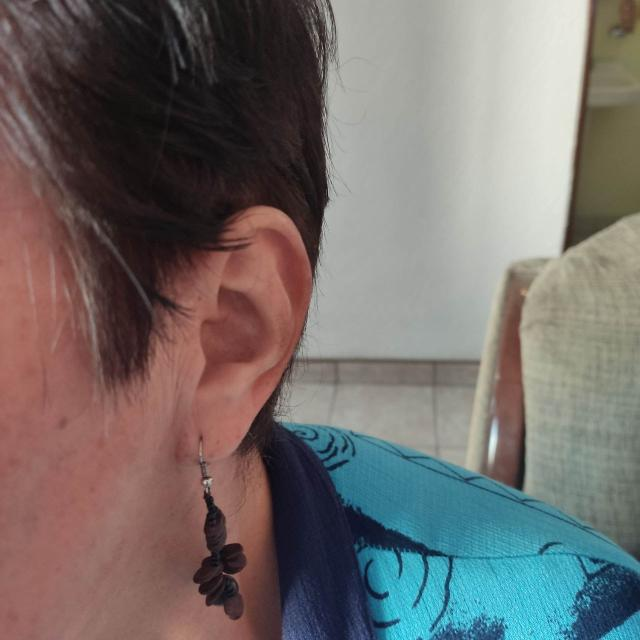ear: (175, 208, 311, 468)
